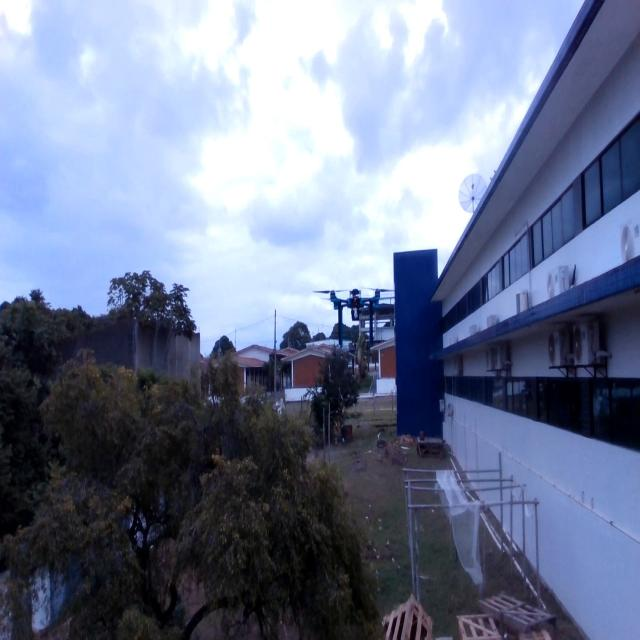-uav-: (305, 262, 407, 357)
